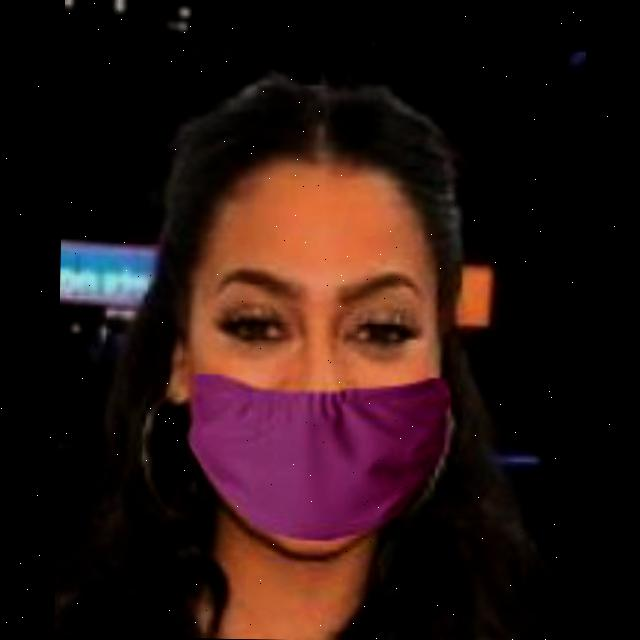suspicion: (149, 59, 475, 595)
